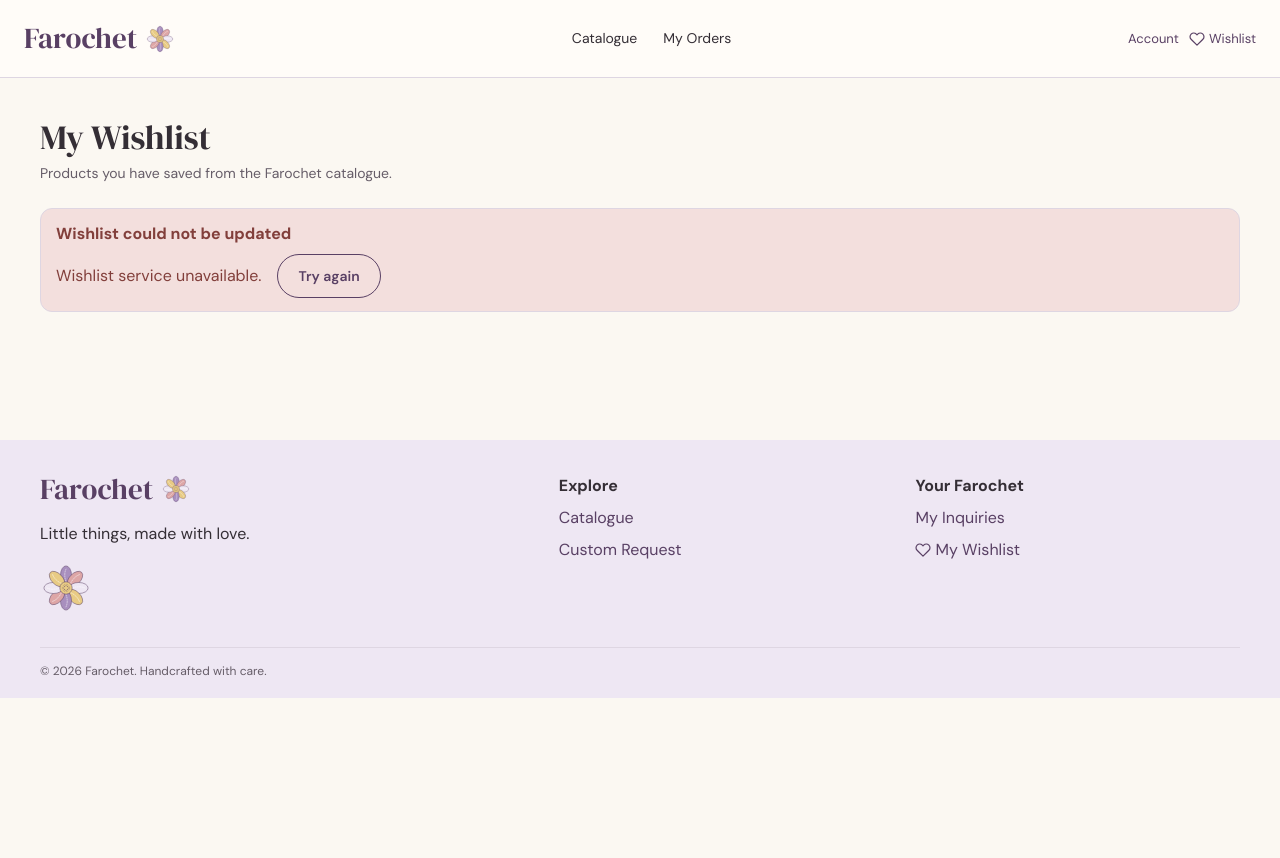
CustomerWishlistPage › shows an error and retries the failed request
The width and height of the screenshot is (1280, 858).
Expected: the text "Wishlist service unavailable." is shown, [56,264,261,288]
Click the button "Try again": [329, 276] box [277,254,381,298]
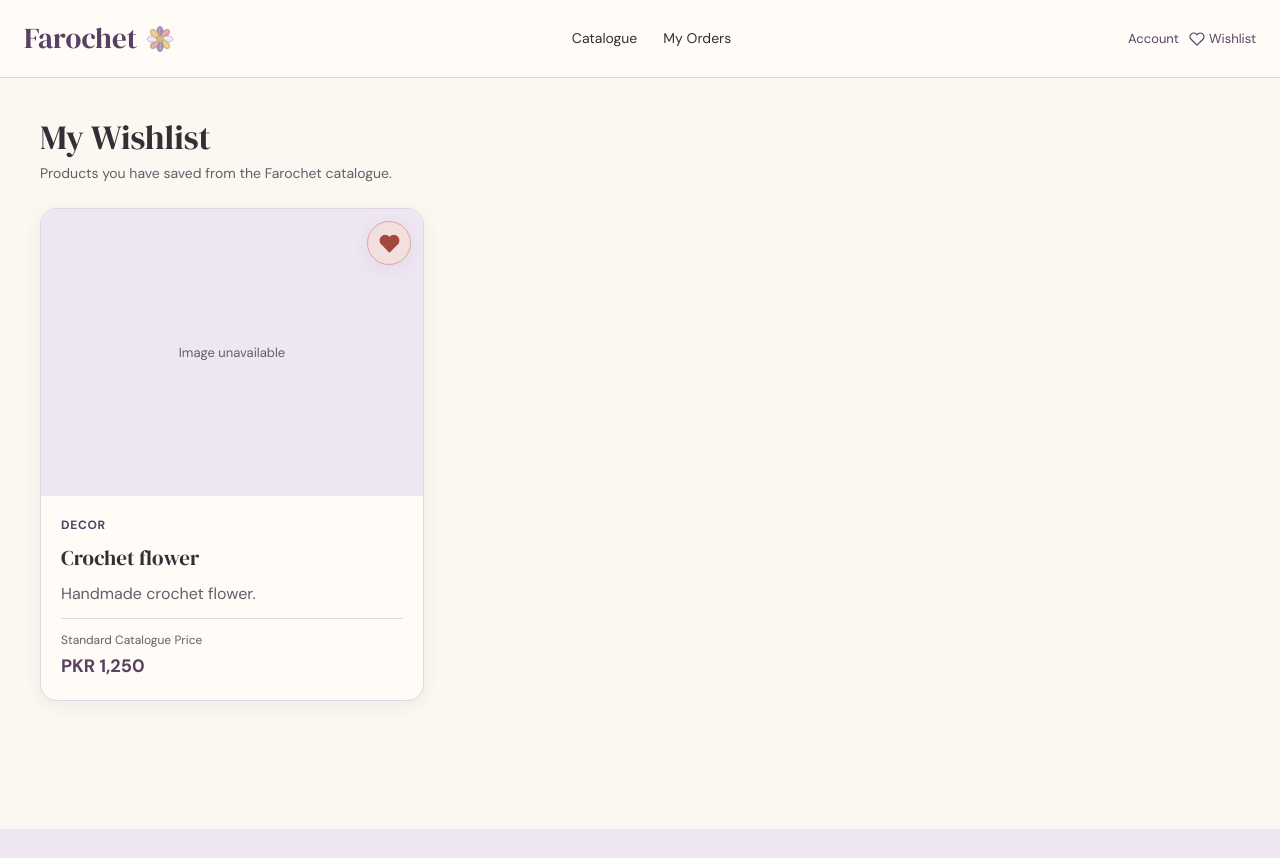
Expected: the heading "Crochet flower" is shown, [61,543,199,572]
